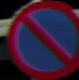No waiting: (6, 2, 74, 73)
